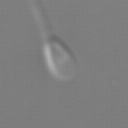normal: (24, 1, 60, 40)
